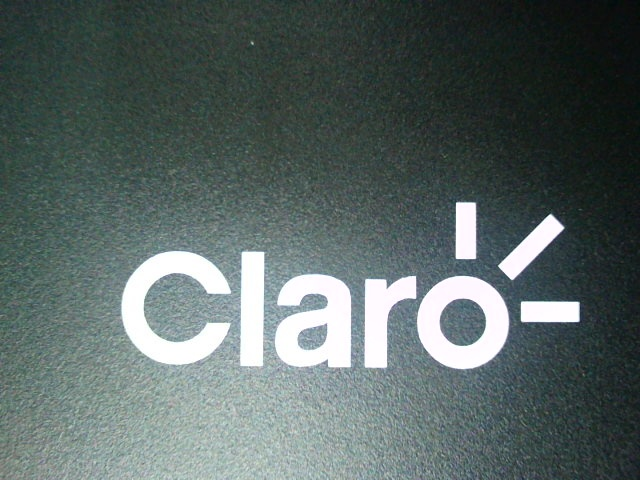BC_Claor: (104, 175, 597, 371)
